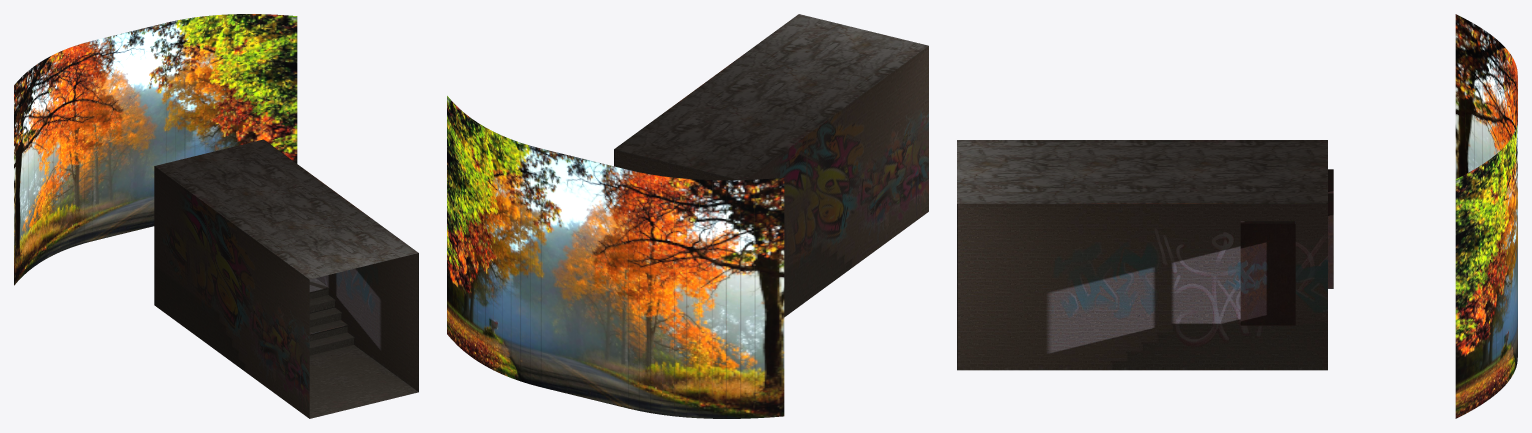
Rendered from dark_abandoned_hall.glb.
3 renders of one model, left to right at view 1: azimuth 30°, elevation 25°; view 2: azimuth 150°, elevation 25°; view 3: azimuth 270°, elevation 25°, orthographic. The views are drawn at different scales.
Parts seen in each view (by area): view 1: Object_2; view 2: Object_2; view 3: Object_2.
Boxes of the visible parts, <box> form: Object_2: <box>14,14,418,418</box>; Object_2: <box>447,14,928,418</box>; Object_2: <box>957,14,1517,418</box>.
Size of the model in its own units: 7.22 by 4.92 by 10.34.
Materials: 1 (1 with a texture image).
